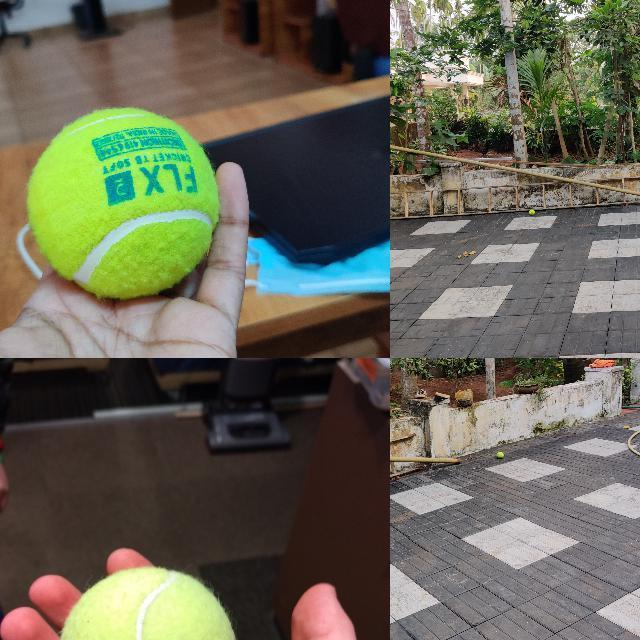tennis-ball: (27, 107, 219, 297), (59, 566, 238, 639), (497, 452, 504, 459), (529, 209, 535, 215)
